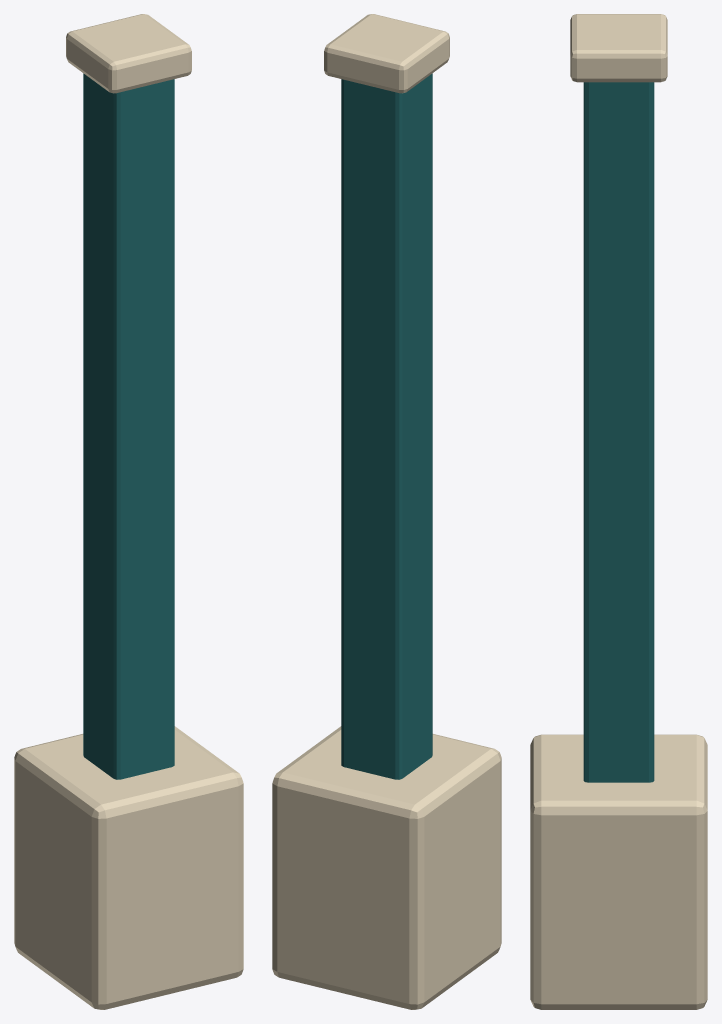
The model's file is fence-post.glb.
3 renders of one model, left to right at view 1: azimuth 30°, elevation 25°; view 2: azimuth 150°, elevation 25°; view 3: azimuth 270°, elevation 25°, orthographic.
Visible parts, largest first — view 1: fence-post-frame-timber-teal, fence-post-frame-timber-cream; view 2: fence-post-frame-timber-teal, fence-post-frame-timber-cream; view 3: fence-post-frame-timber-cream, fence-post-frame-timber-teal.
Boxes of the visible parts, left/top/right/bottom form: fence-post-frame-timber-teal: left=83, top=73, right=174, bottom=779; fence-post-frame-timber-cream: left=14, top=14, right=243, bottom=1009; fence-post-frame-timber-teal: left=341, top=73, right=432, bottom=779; fence-post-frame-timber-cream: left=272, top=14, right=501, bottom=1009; fence-post-frame-timber-cream: left=530, top=14, right=707, bottom=1009; fence-post-frame-timber-teal: left=583, top=82, right=654, bottom=782.
Size of the model in its own units: 0.4 by 2.35 by 0.4.
